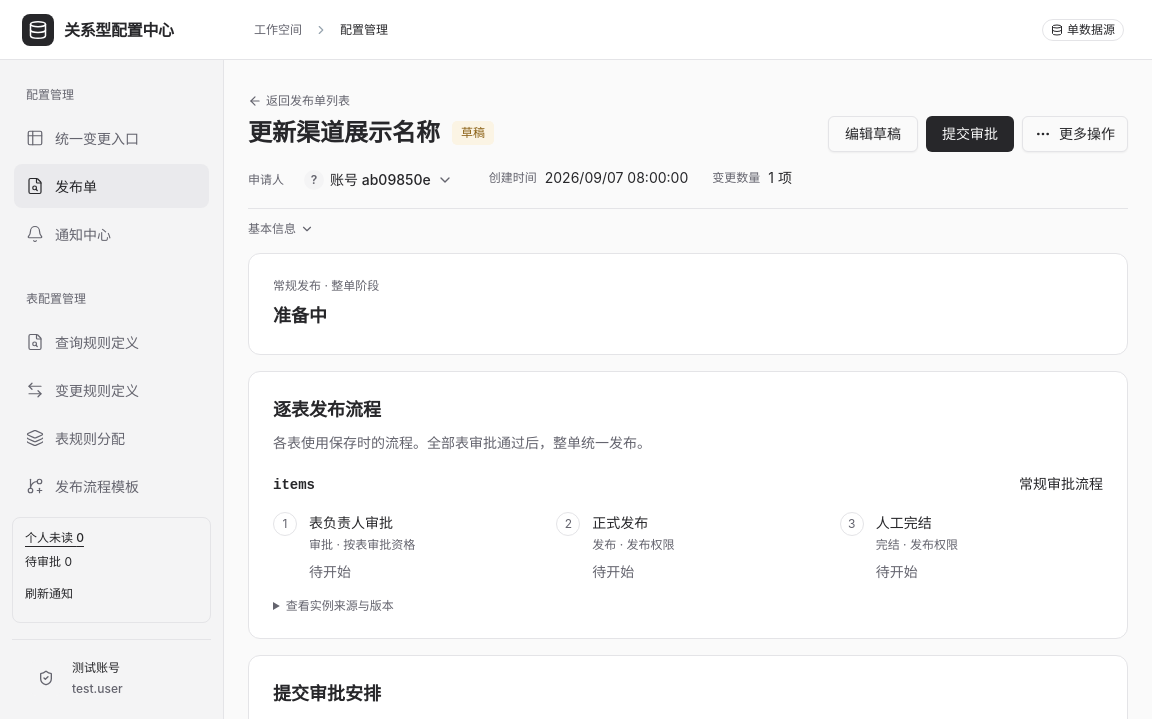
草稿明确切换为应急方式时整单保存新方式并展示新的持久流程
Expected: the text "常规发布 · 整单阶段" is shown, [273, 278, 379, 293]
Step 1. Click the button "编辑草稿" → (873,134), box [828, 116, 918, 152]
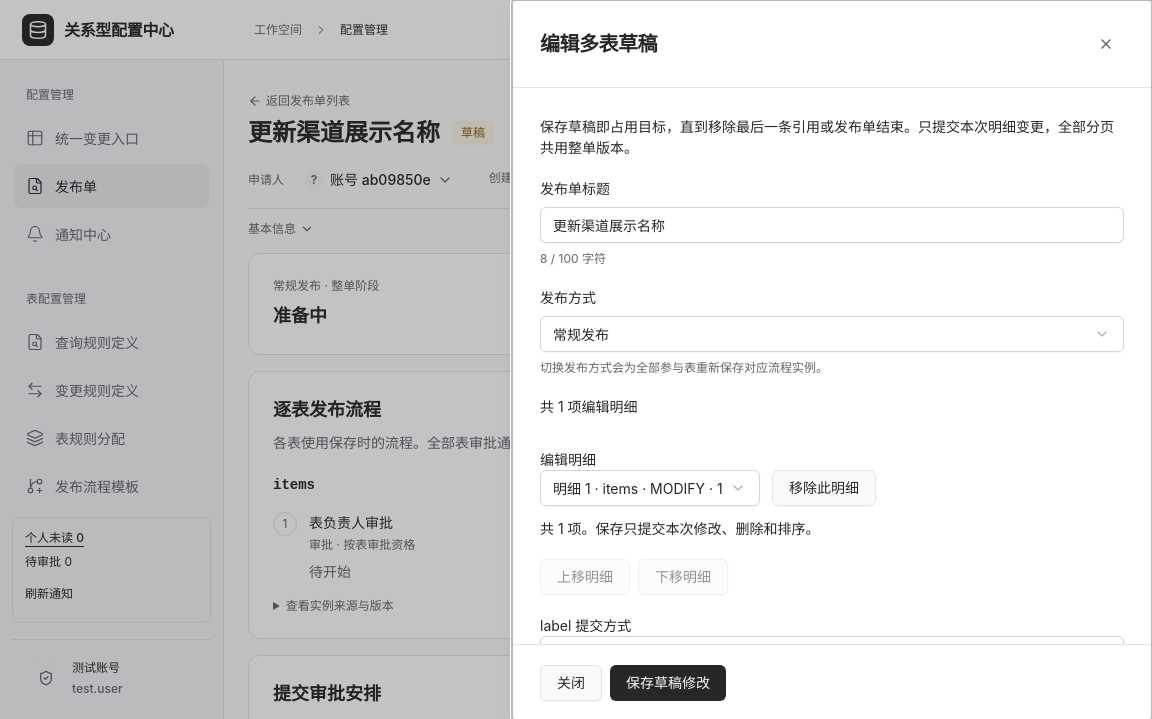
Step 2. Select "应急发布" in the dropdown labelled "发布方式" → (832,334), box [540, 316, 1124, 352]
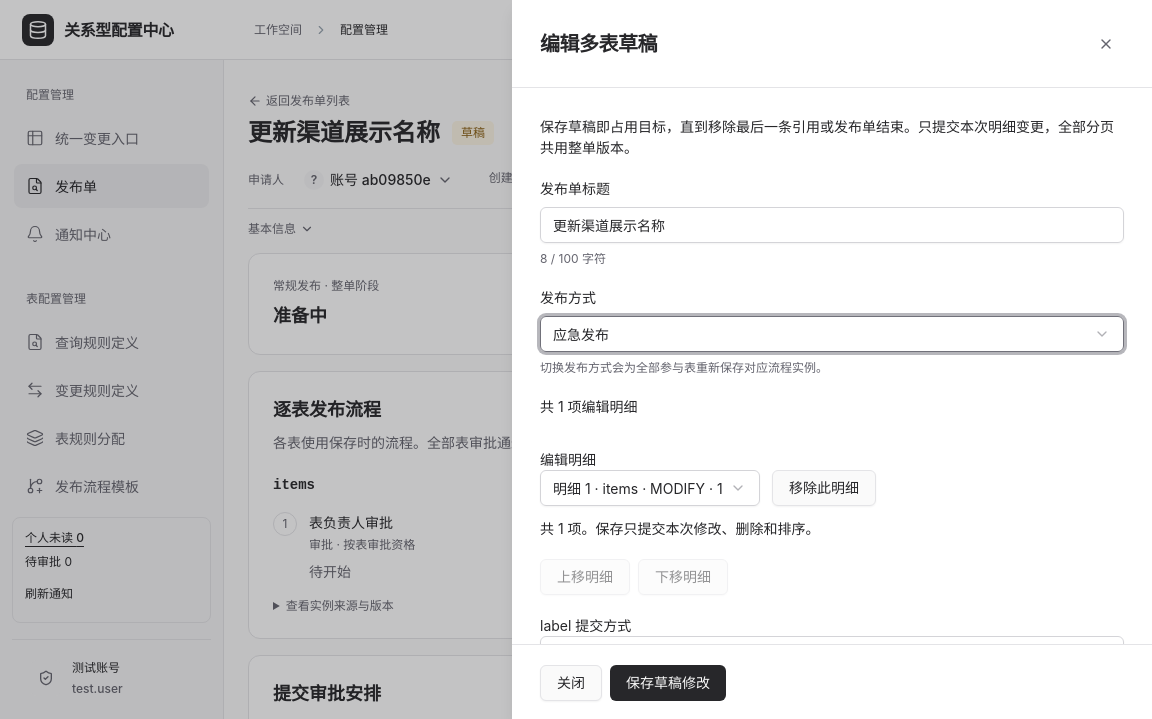
Expected: the text "切换发布方式会为全部参与表重新保存对应流程实例。" is shown, [540, 360, 828, 375]
Step 3. Click the button "保存草稿修改" → (668,682), box [610, 664, 726, 700]
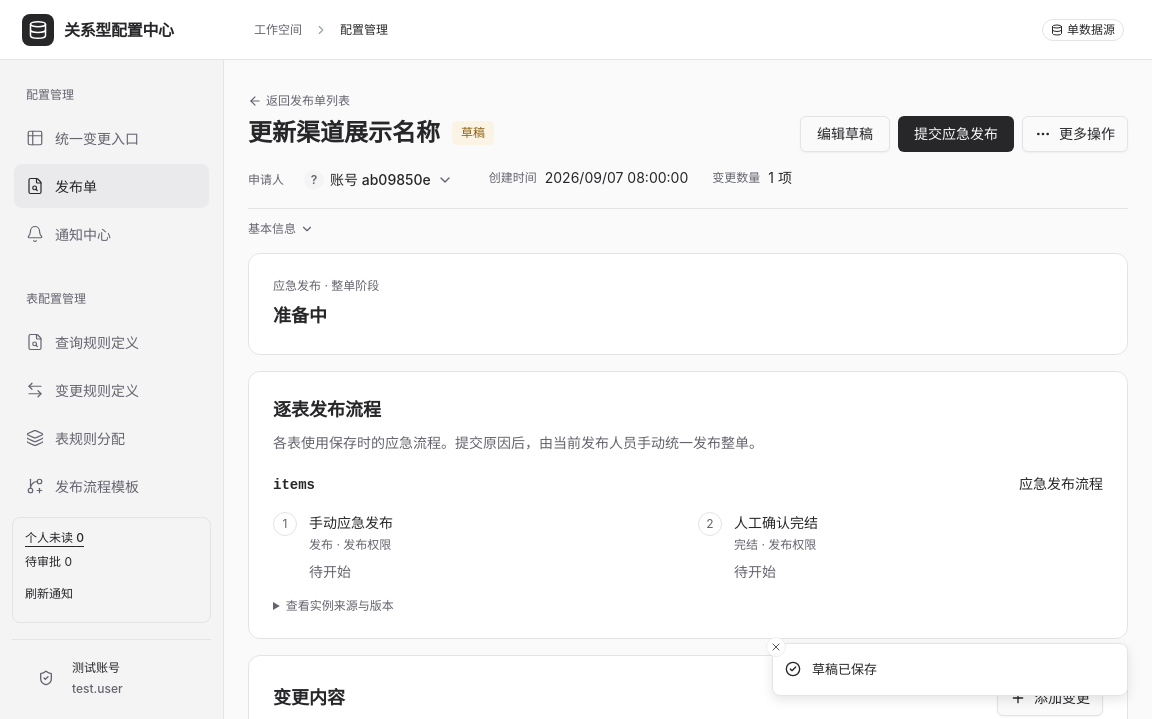
Expected: the text "应急发布 · 整单阶段" is shown, [273, 278, 379, 293]
Expected: the heading "手动应急发布" is shown, [309, 512, 393, 533]
